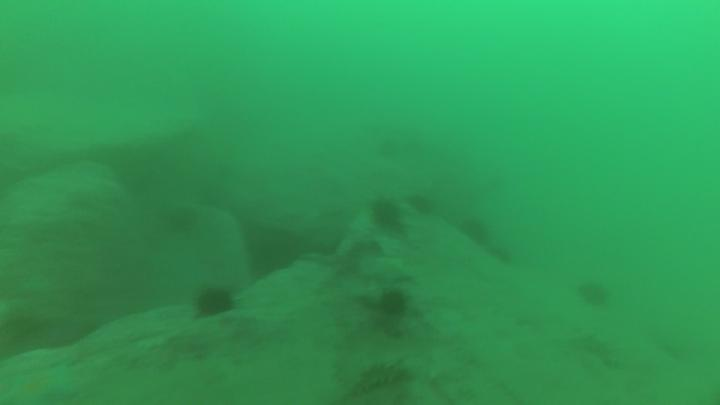echinus: (197, 289, 234, 317), (372, 200, 402, 228), (580, 280, 608, 306), (381, 291, 407, 316), (461, 220, 487, 244), (414, 195, 429, 214)
holothurian: (347, 362, 410, 396)
